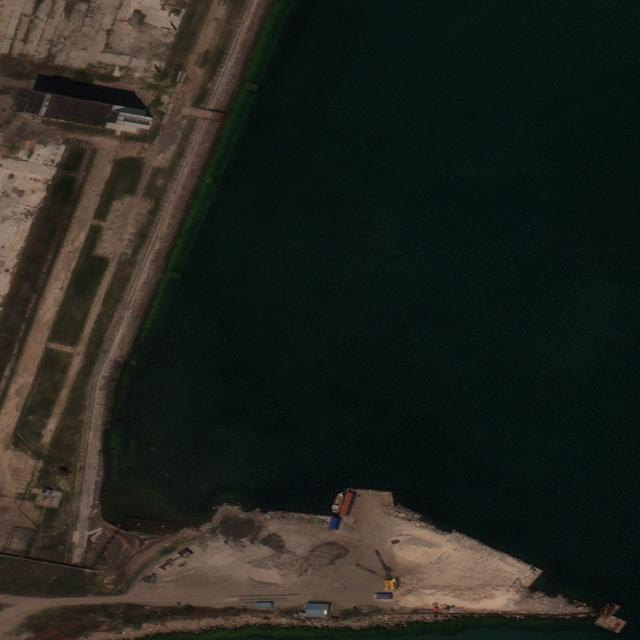Other Ship: (330, 490, 346, 515)
